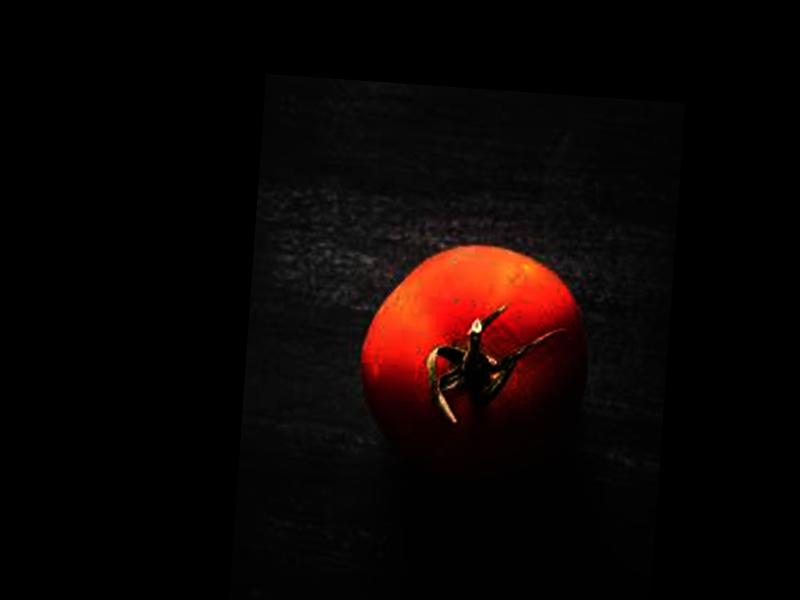Tomato: (353, 235, 592, 485)
